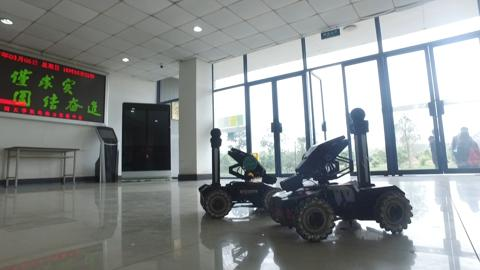chariot: (265, 106, 416, 246), (197, 125, 291, 222)
